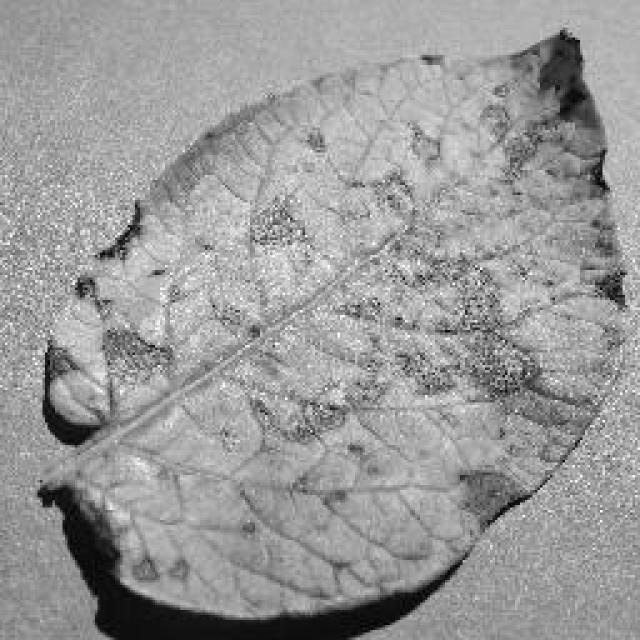Potato: (35, 25, 635, 630)
